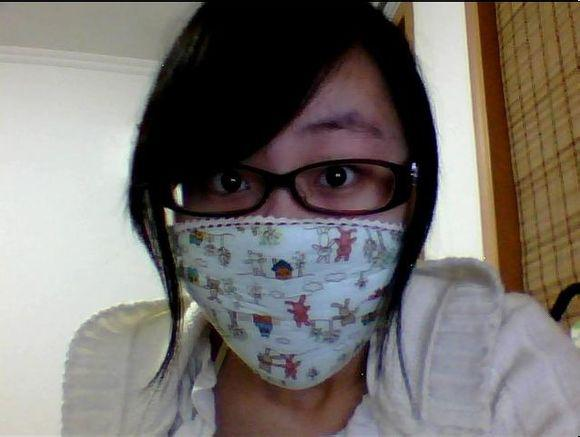OK: (166, 113, 413, 360)
